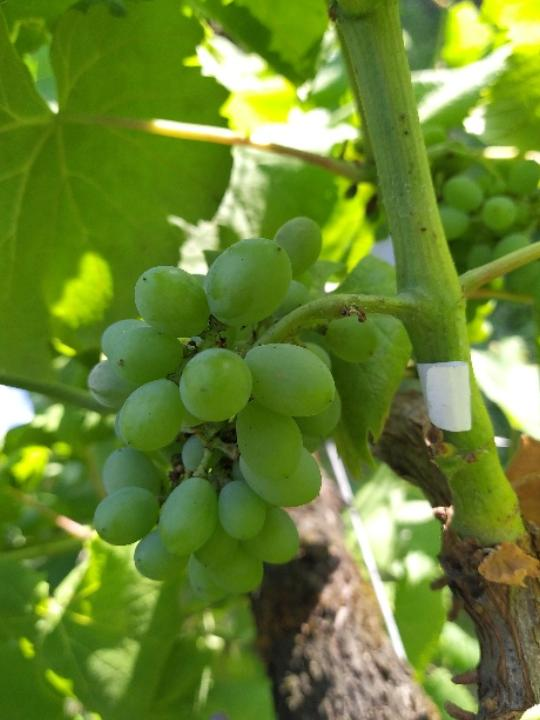grape: (82, 216, 384, 610)
